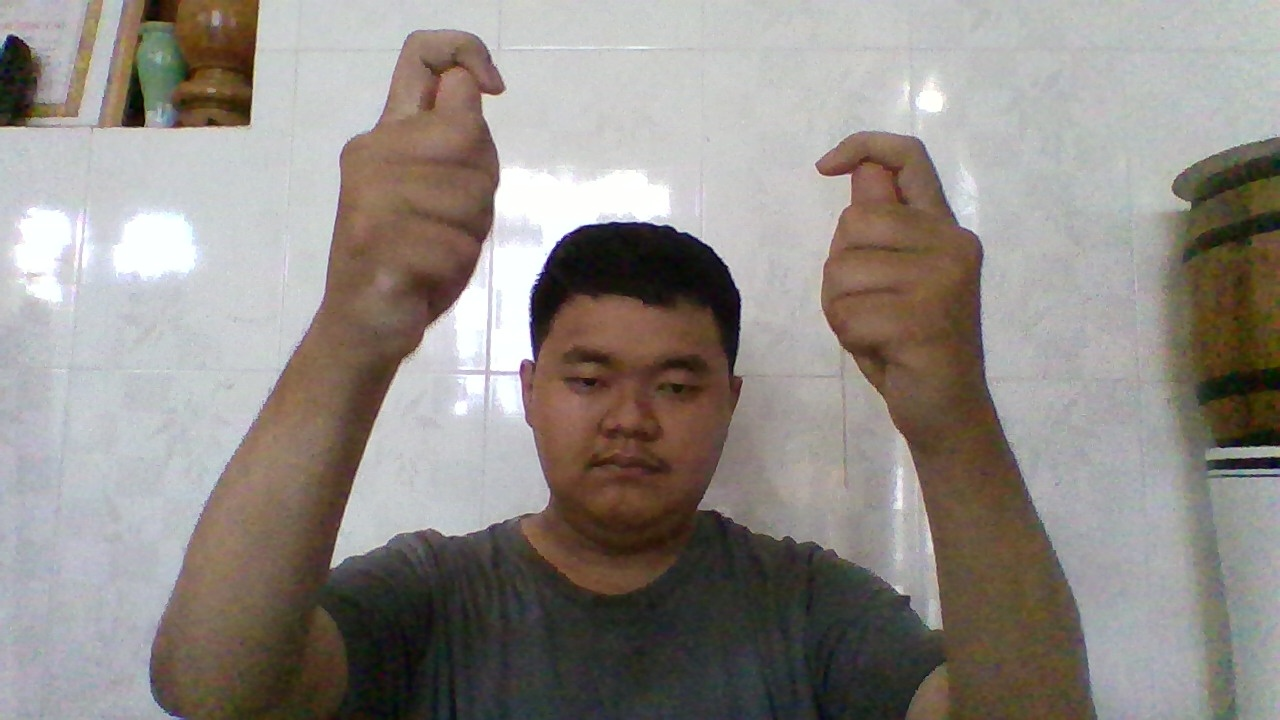X: (804, 133, 975, 431), (342, 38, 511, 337)
